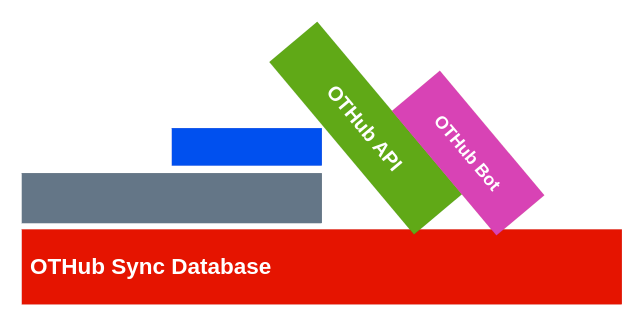
Some shapes in this 643 by 326 pixel diagram are drawn without their labels. Here are the shapes that lost their labels. From the top down, the box of each, then its label:
(171, 128, 321, 165): OTHub React
(21, 172, 321, 222): OTHub Runtime
